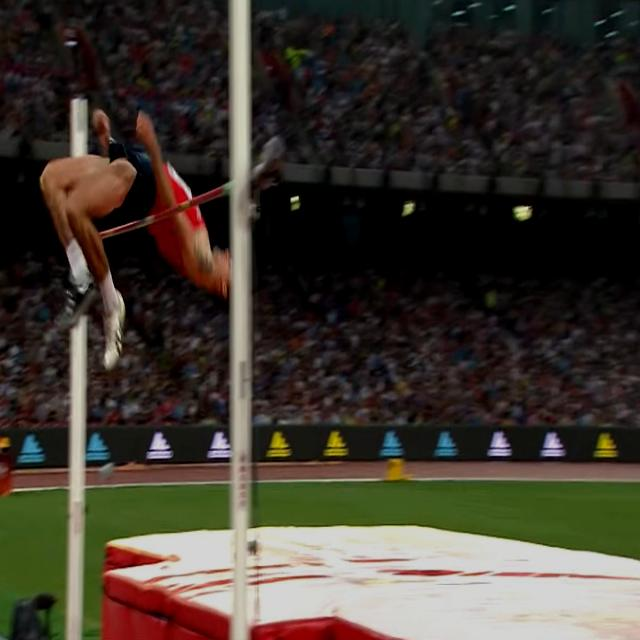jump: (41, 112, 229, 368)
